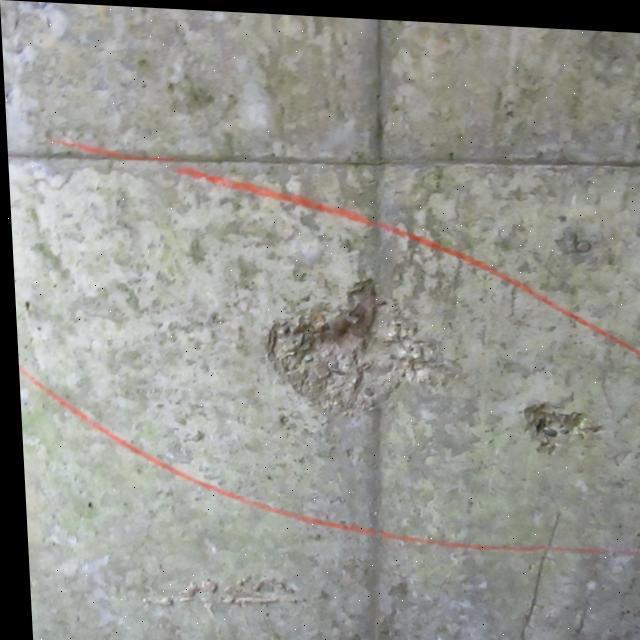D10: (266, 278, 445, 417), (526, 402, 601, 453)
